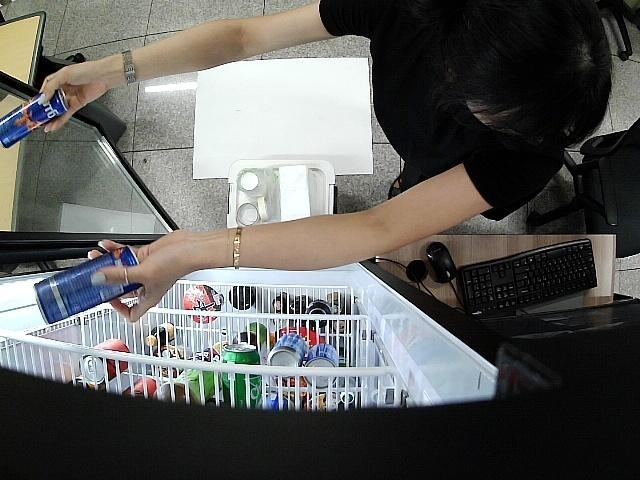16_hot6: (33, 245, 142, 328), (0, 86, 70, 150)
